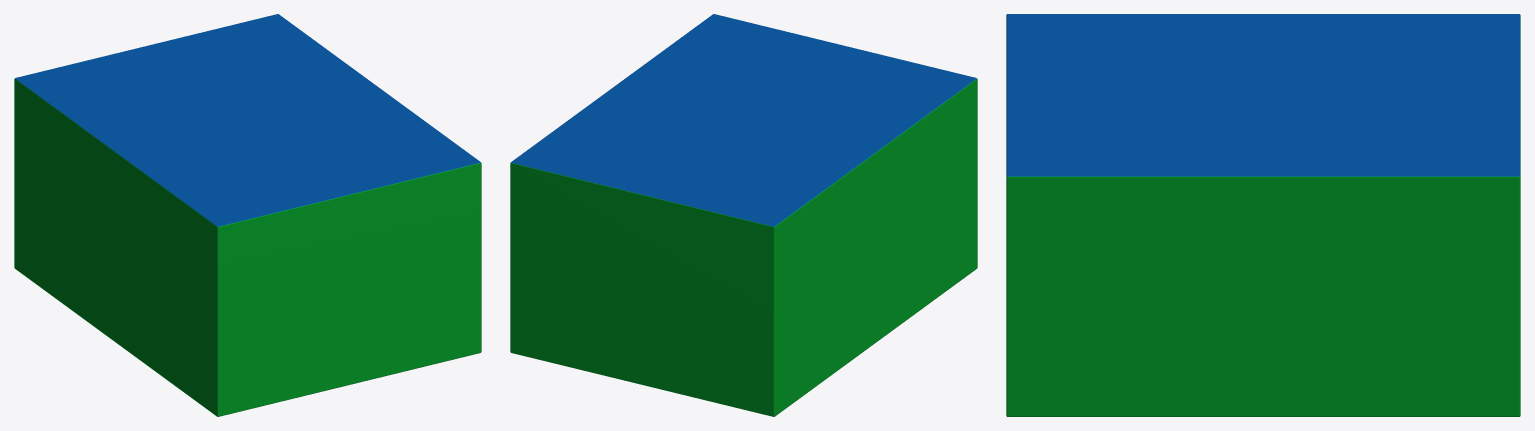
Rendered from SM_sheets_2.fbx.
3 renders of one model, left to right at view 1: azimuth 30°, elevation 25°; view 2: azimuth 150°, elevation 25°; view 3: azimuth 270°, elevation 25°, orthographic. The views are drawn at different scales.
Visible parts, largest first — view 1: SM_sheets_2; view 2: SM_sheets_2; view 3: SM_sheets_2.
Boxes of the visible parts, box(x1,y1,x2,y2) form: SM_sheets_2: box(14, 14, 481, 416); SM_sheets_2: box(510, 14, 977, 416); SM_sheets_2: box(1006, 14, 1520, 416).
Bounding box in the file's own units: 0.54 × 0.3723 × 0.72.
